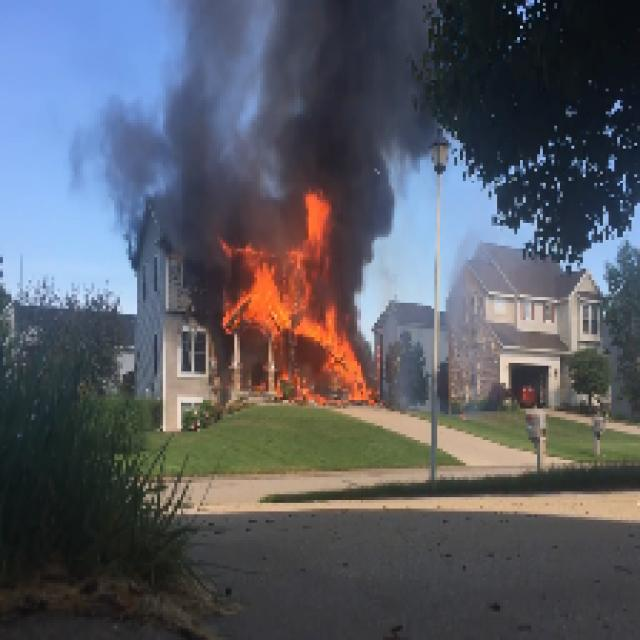fire: (225, 249, 371, 407), (300, 190, 331, 247)
smoke: (102, 2, 294, 242), (300, 3, 423, 185), (336, 188, 396, 244)
